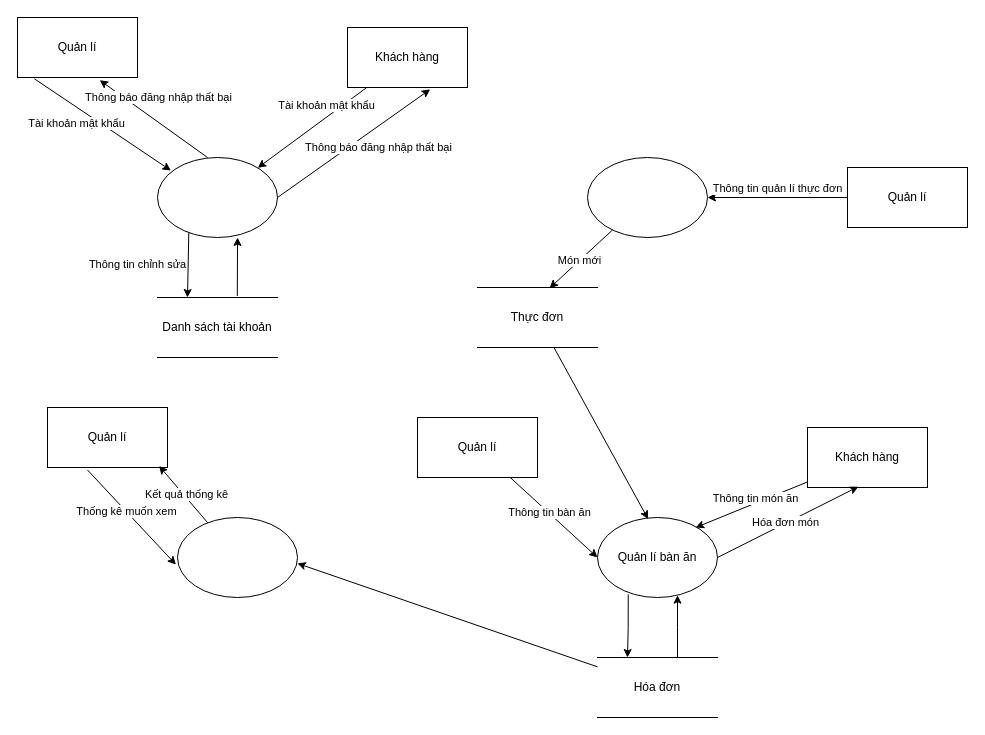
This 985x735 diagram has some shape labels left out. The shapes that lost their labels are listed below. From the top down, each one's centre as x and y in pixels, then its label:
At (x=217, y=197): "Quản lí tài khoản".
At (x=647, y=197): "Quản lí thực đơn".
At (x=237, y=557): "Thống kê".
